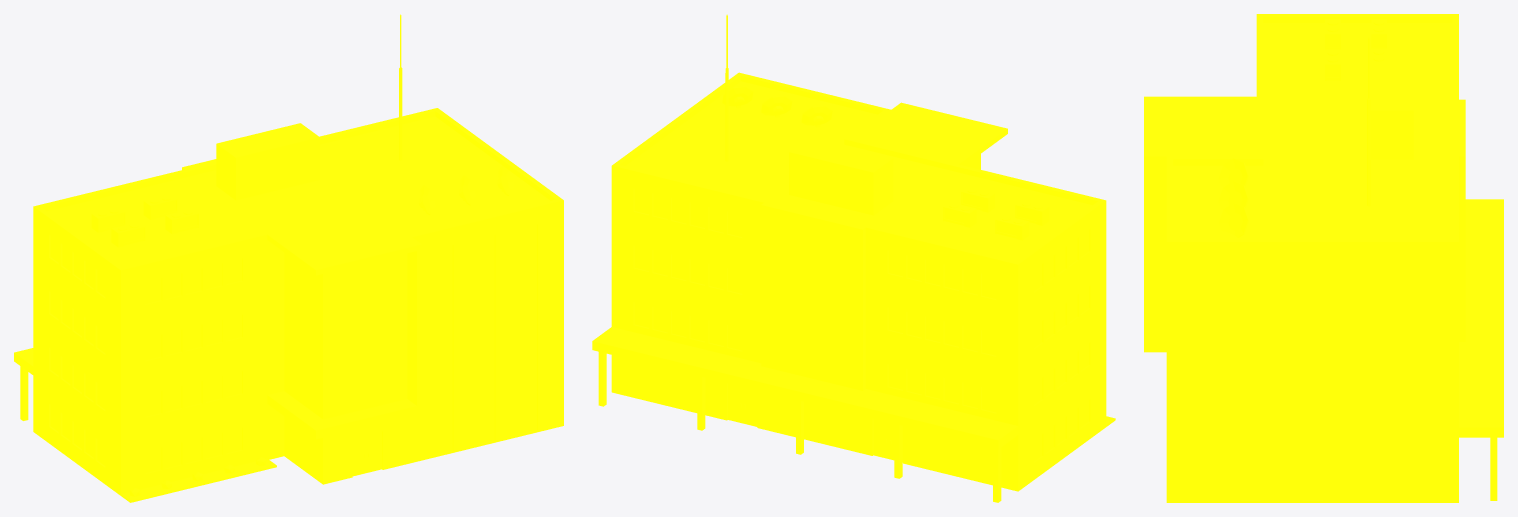
File: data-center.glb
3 views of the same model, side by side, from view 1: azimuth 30°, elevation 25°; view 2: azimuth 150°, elevation 25°; view 3: azimuth 270°, elevation 25° (orthographic). The views are drawn at different scales.
Visible parts, largest first — view 1: data-center; view 2: data-center; view 3: data-center.
Part boxes in pixels (bbox=[...]): data-center: bbox=[14, 14, 563, 502]; data-center: bbox=[592, 14, 1115, 502]; data-center: bbox=[1144, 14, 1503, 502].
Bounding box in the file's own units: 24 × 20.79 × 16.
1 material, 1 textured.
